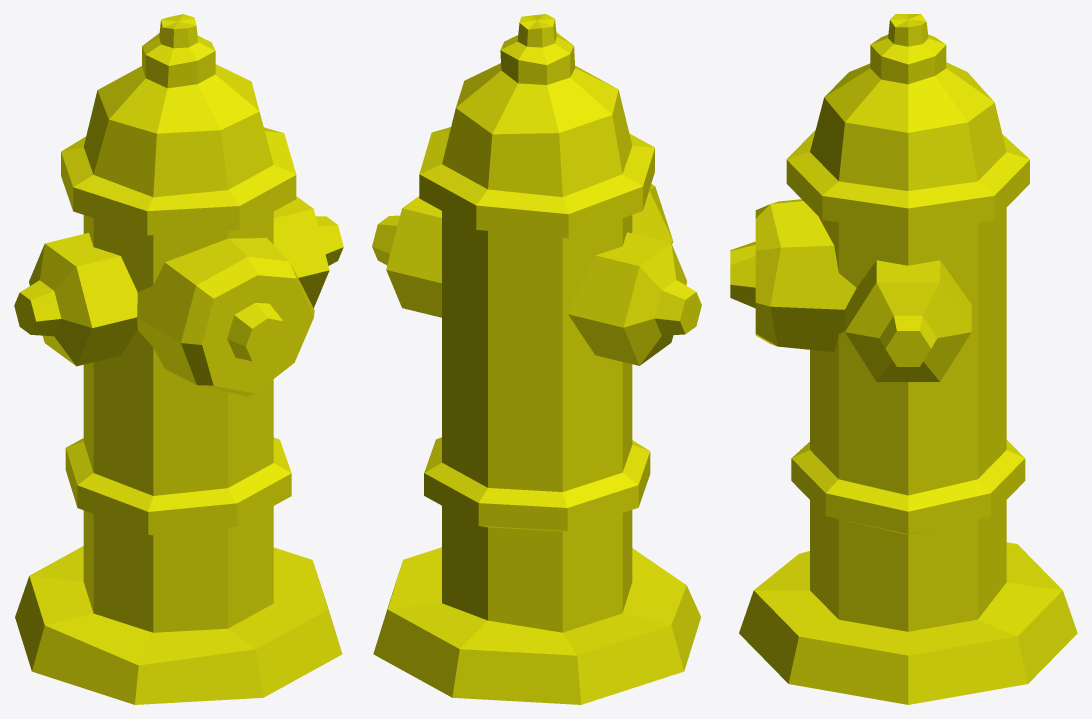
The model's file is cty_hydrant.glb.
3 renders of one model, left to right at view 1: azimuth 30°, elevation 25°; view 2: azimuth 150°, elevation 25°; view 3: azimuth 270°, elevation 25°, orthographic.
Visible parts, largest first — view 1: SM_Prop_Hydrant_01; view 2: SM_Prop_Hydrant_01; view 3: SM_Prop_Hydrant_01.
Part boxes in pixels (bbox=[...]): SM_Prop_Hydrant_01: bbox=[14, 14, 343, 704]; SM_Prop_Hydrant_01: bbox=[372, 14, 701, 704]; SM_Prop_Hydrant_01: bbox=[730, 14, 1077, 704].
Bounding box in the file's own units: 0.00551 × 0.0105 × 0.0054.
1 material, 1 textured.
